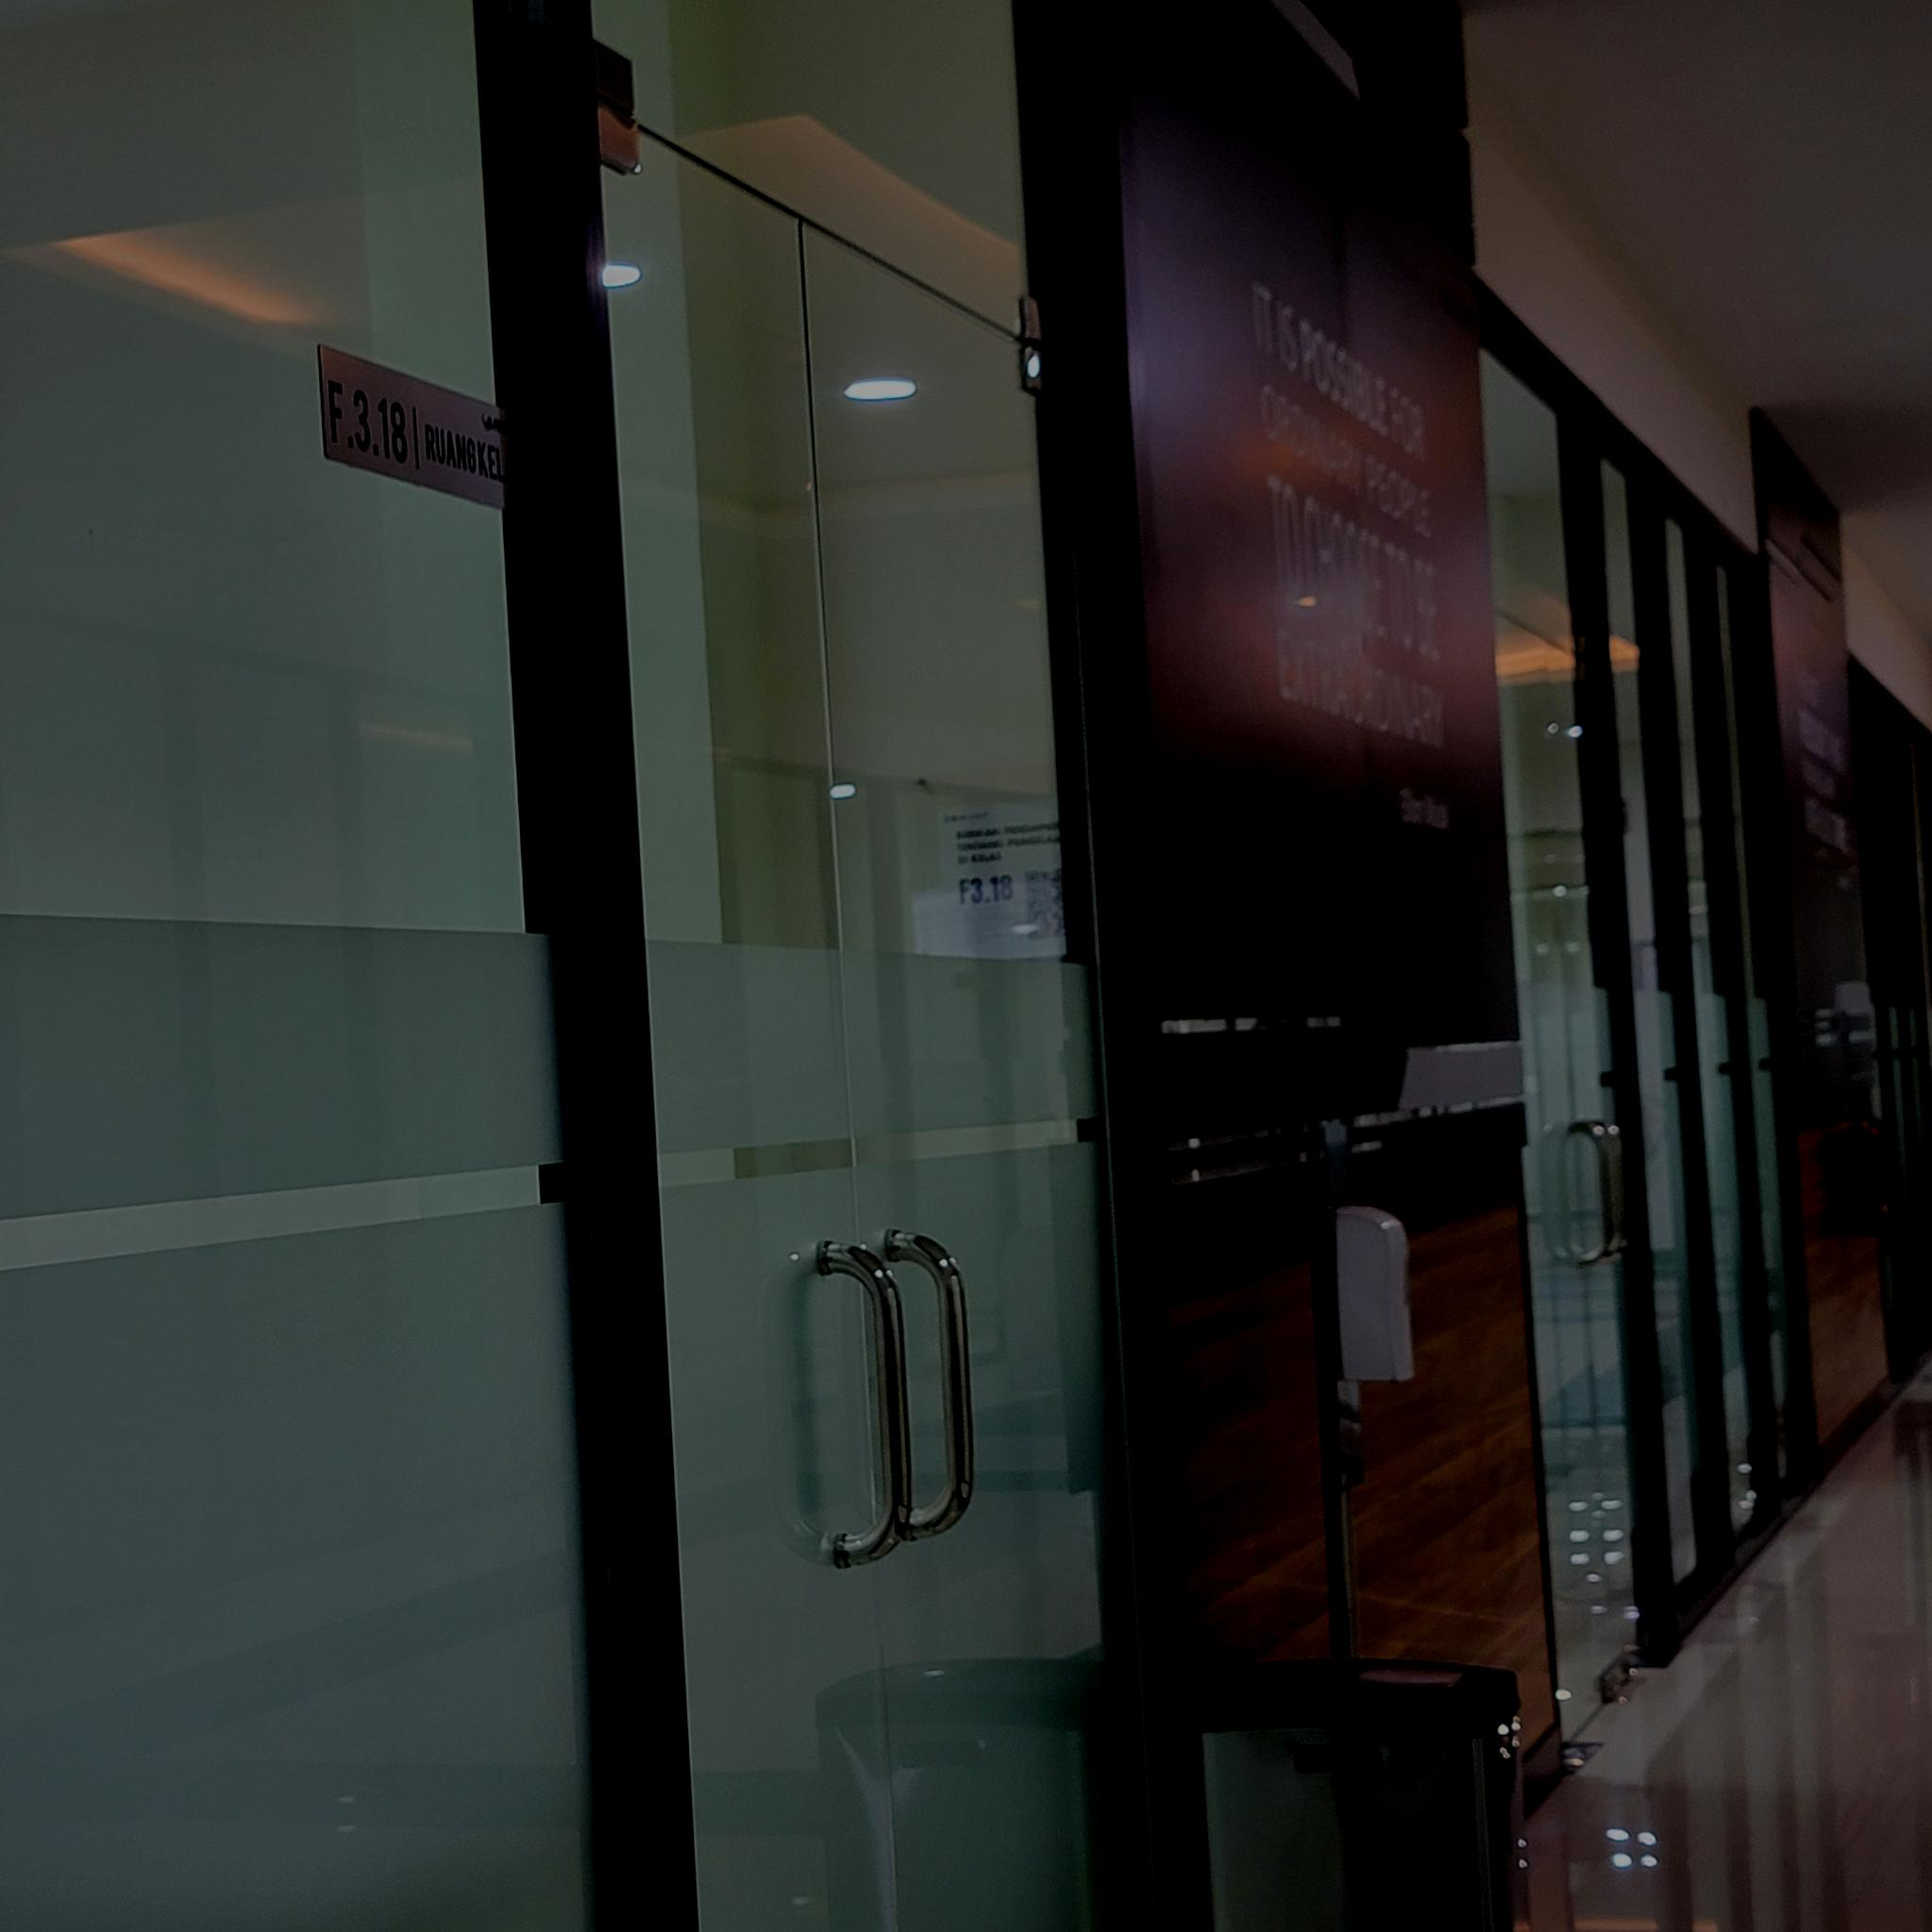plate: (318, 343, 531, 520)
